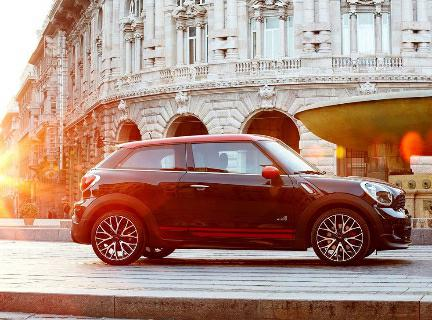MINI-JCWPACEMAN: (68, 131, 414, 263)
